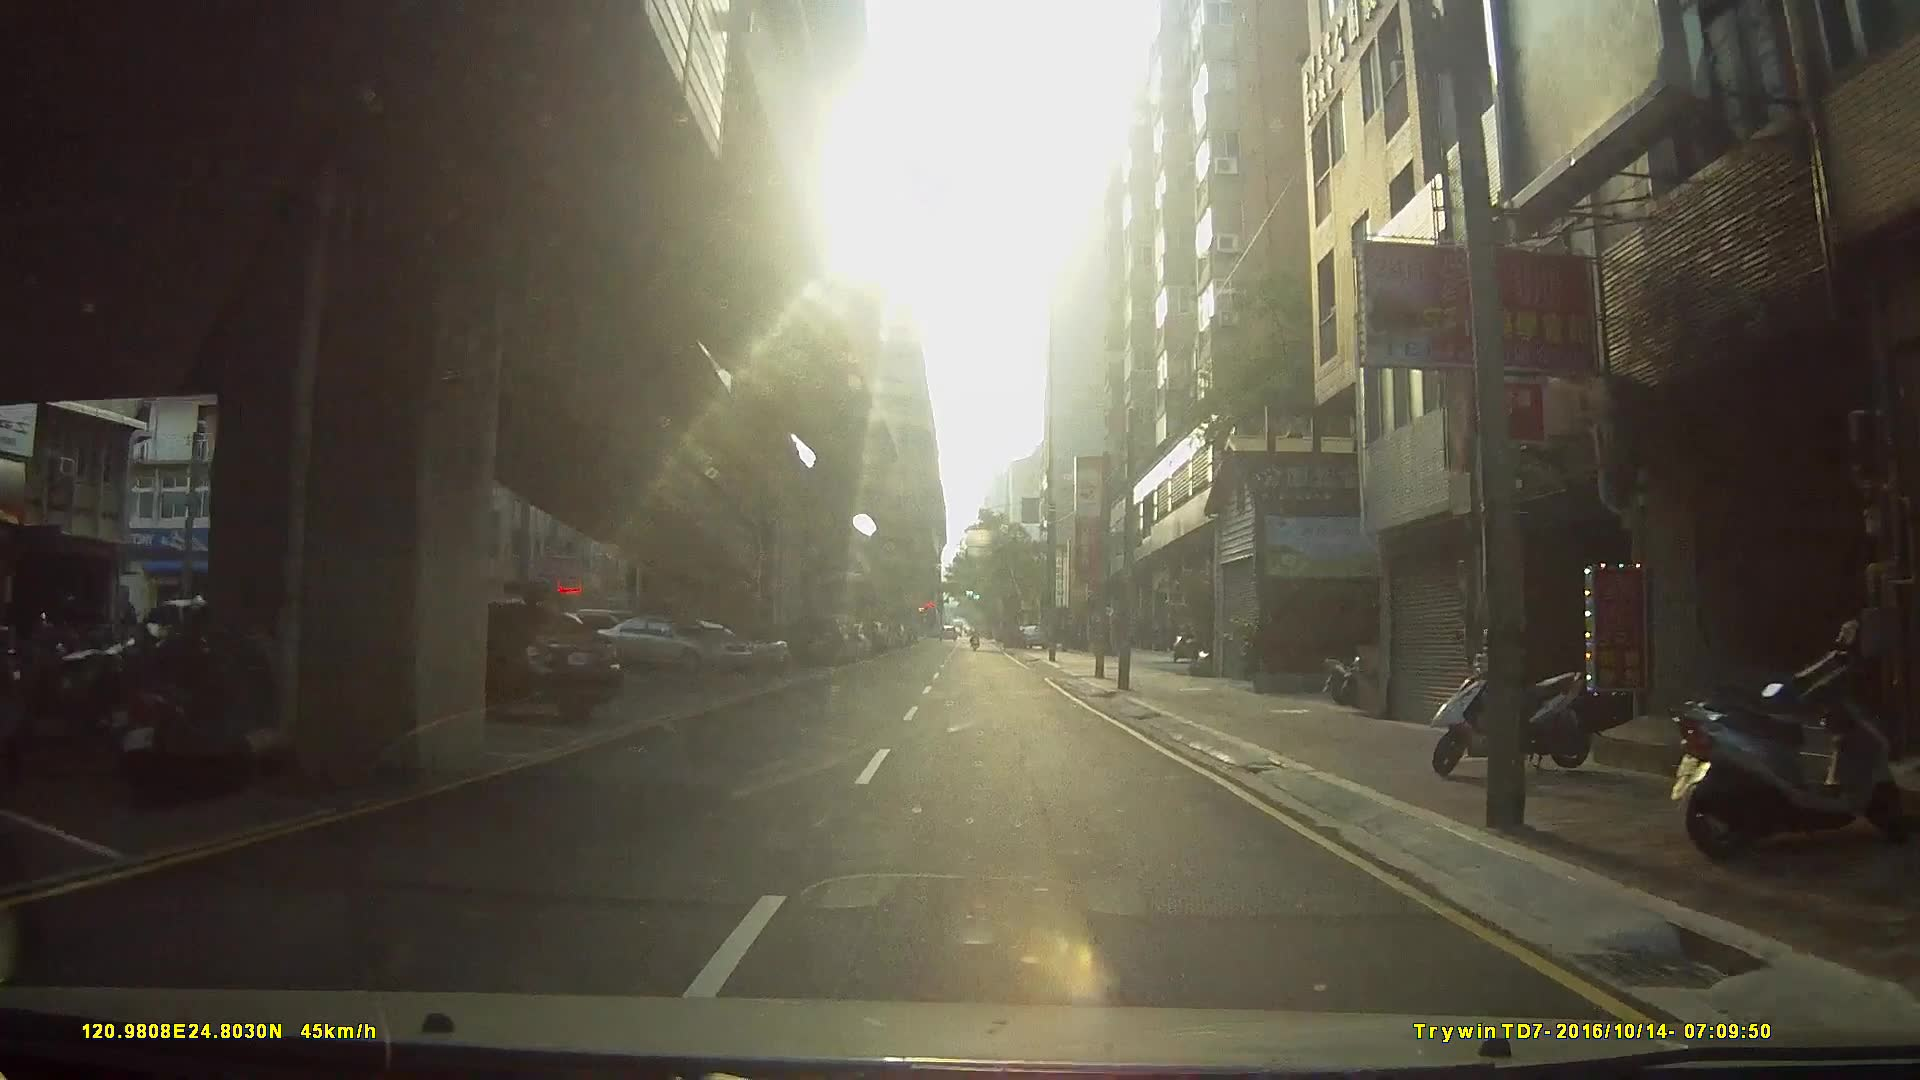vehicle: (400, 603, 622, 725), (593, 616, 756, 676), (787, 612, 848, 669)
